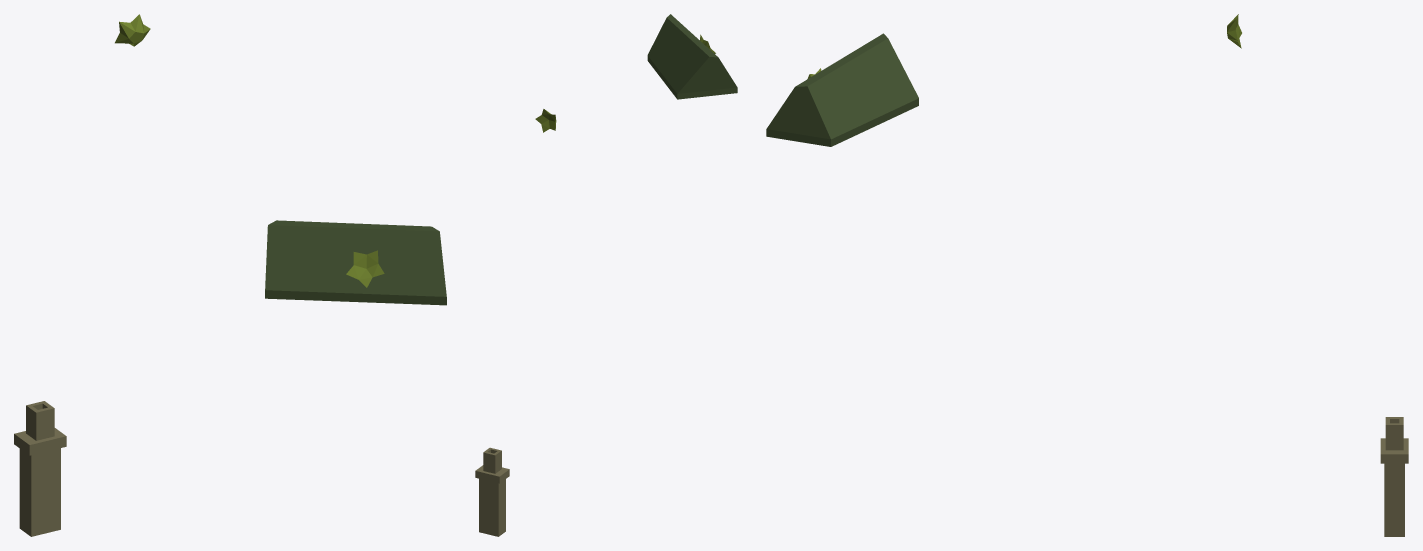
3 views of the same model, side by side, from view 1: azimuth 30°, elevation 25°; view 2: azimuth 150°, elevation 25°; view 3: azimuth 270°, elevation 25° (orthographic). The views are drawn at different scales.
Visible parts, largest first — view 1: Box15859_roof1_0, Box15460_rock2_0, Box16091_green2_0, Box16169_green2_0; view 2: Box15859_roof1_0, Box15460_rock2_0; view 3: Box15859_roof1_0, Box15460_rock2_0.
Boxes of the visible parts, x1,y1,x2,y2 form: Box15859_roof1_0: (265,220,446,305); Box15460_rock2_0: (14,401,66,536); Box16091_green2_0: (346,250,384,287); Box16169_green2_0: (115,14,150,46); Box15859_roof1_0: (647,14,737,99); Box15460_rock2_0: (475,447,509,536); Box15859_roof1_0: (766,33,918,146); Box15460_rock2_0: (1380,417,1408,536).
Size of the model in its own units: 523 by 1881 by 2121.
